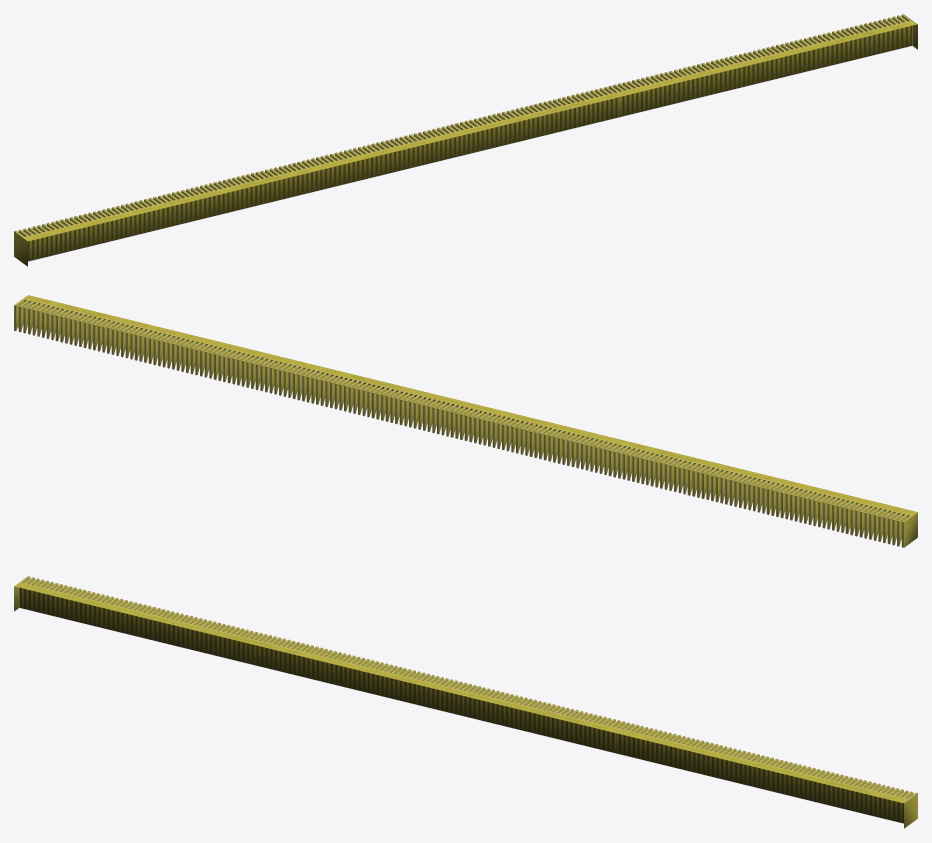
3 renders of one model, top to bottom at view 1: azimuth 30°, elevation 25°; view 2: azimuth 150°, elevation 25°; view 3: azimuth 330°, elevation 25°, orthographic.
Parts seen in each view (by area): view 1: platform_gap_filler_inner_area, platform_gap_filler_main, platform_gap_filler_branch_polyfill; view 2: platform_gap_filler_main, platform_gap_filler_branch_polyfill, platform_gap_filler_inner_area; view 3: platform_gap_filler_inner_area, platform_gap_filler_main, platform_gap_filler_branch_polyfill.
Boxes of the visible parts, <box> form: platform_gap_filler_inner_area: <box>28,25,912,261</box>; platform_gap_filler_main: <box>14,14,917,241</box>; platform_gap_filler_branch_polyfill: <box>18,15,909,236</box>; platform_gap_filler_main: <box>14,295,917,547</box>; platform_gap_filler_branch_polyfill: <box>16,300,907,545</box>; platform_gap_filler_inner_area: <box>24,299,909,517</box>; platform_gap_filler_inner_area: <box>19,587,903,823</box>; platform_gap_filler_main: <box>14,576,917,803</box>; platform_gap_filler_branch_polyfill: <box>22,577,913,798</box>.
Size of the model in its own units: 2.99 by 0.082 by 0.082.
Materials: 2 (2 with a texture image).
